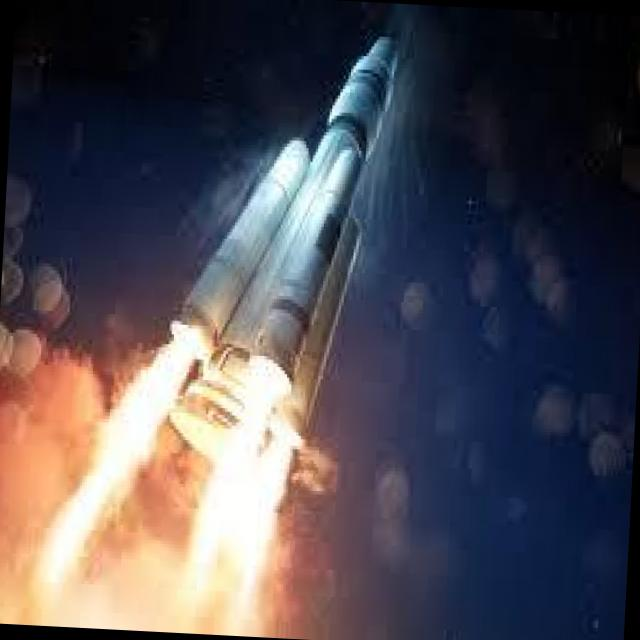rocket: (127, 25, 412, 536)
